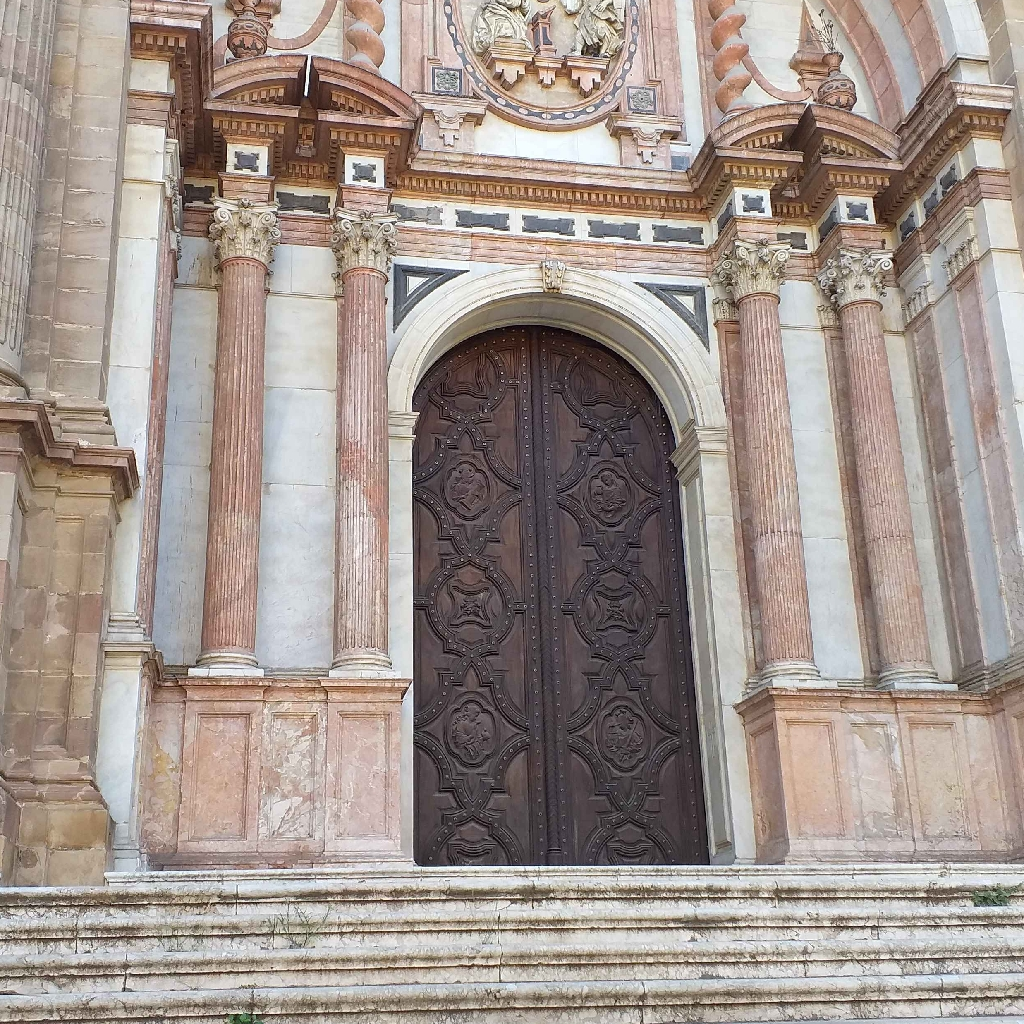arco-medio-punto: (398, 281, 698, 501)
columna-salomonica: (699, 1, 755, 121)
fronton-partido: (204, 58, 429, 143), (703, 96, 898, 161)
